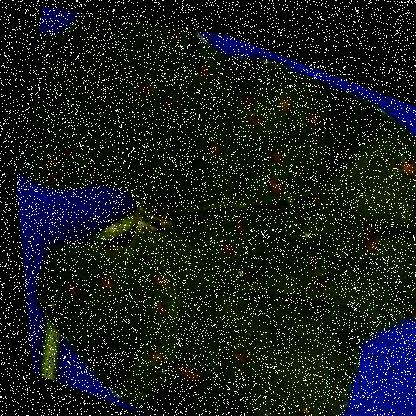AlternariaBrassicicola: (344, 197, 398, 255), (291, 232, 341, 292), (154, 345, 208, 392), (212, 325, 261, 373), (149, 74, 187, 124), (139, 254, 182, 294), (257, 128, 301, 165), (228, 251, 269, 290), (220, 195, 258, 235), (187, 42, 224, 83), (252, 160, 294, 195), (85, 261, 120, 301), (200, 124, 235, 161), (232, 72, 266, 109)
